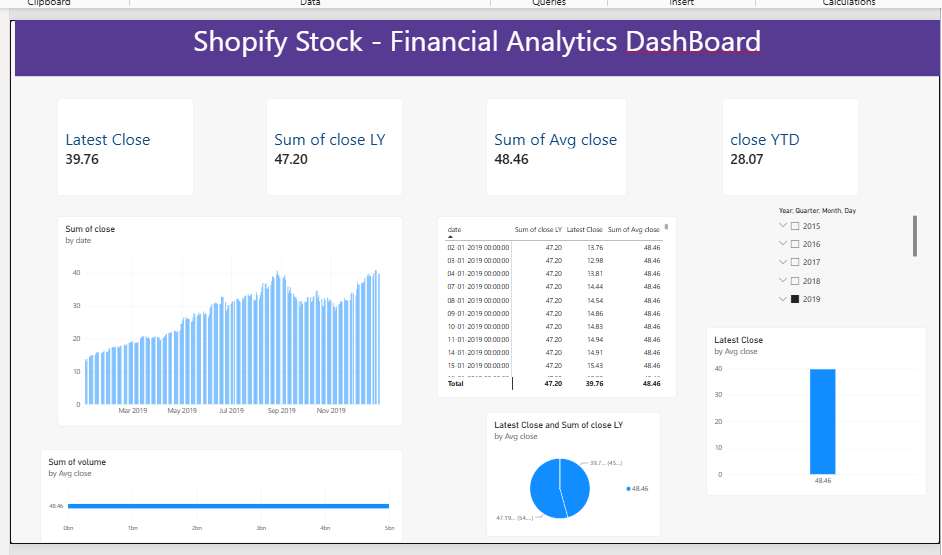

The page's visual inventory and layout, read from the dashboard file:
{"tool":"powerbi","page":{"name":"Page 1","canvas":[1920,1080],"ordinal":0},"visuals":[{"type":"textbox","box":[10.1,0,1909.9,115.9],"z":0},{"type":"cardVisual","fields":{"Data":["Measure.Latest Close"]},"box":[97,161,282.8,202.3],"z":1},{"type":"cardVisual","fields":{"Data":["Sum(Measure.close LY)"]},"box":[528.5,161,283,202],"z":2},{"type":"cardVisual","fields":{"Data":["Sum(Measure.Avg close)"]},"box":[982.7,161,291.1,202.3],"z":3},{"type":"cardVisual","fields":{"Data":["Measure.close YTD"]},"box":[1469.9,161,283,202],"z":4},{"type":"slicer","fields":{"Values":["Date.Date.Variation.Date Hierarchy.Year","Date.Date.Variation.Date Hierarchy.Quarter","Date.Date.Variation.Date Hierarchy.Month","Date.Date.Variation.Date Hierarchy.Day"]},"box":[1579.4,386.1,293.2,206.5],"z":7},{"type":"pivotTable","fields":{"Rows":["shopify_stock.date"],"Values":["Sum(Measure.close LY)","Measure.Latest Close","Sum(Measure.Avg close)"]},"box":[881.5,404.6,495.5,375.7],"z":8},{"type":"pieChart","fields":{"Category":["Measure.Avg close"],"Y":["Measure.Latest Close","Sum(Measure.close LY)"]},"box":[982.7,809.3,361.3,258.1],"z":9},{"type":"columnChart","fields":{"Category":["Measure.Avg close"],"Y":["Measure.Latest Close"]},"box":[1436.9,633.8,456.3,348.9],"z":10},{"type":"clusteredBarChart","fields":{"Category":["Measure.Avg close"],"Y":["Sum(shopify_stock.volume)"]},"box":[61.9,885.7,749.4,194.1],"z":11},{"type":"lineStackedColumnComboChart","fields":{"Category":["shopify_stock.date"],"Y":["Sum(shopify_stock.close)"]},"box":[97,404.6,714.3,433.5],"z":12}]}

Visuals, with their boxes in screenshot pixels (x1, y1, x2, y2):
textbox: rect(0, 17, 892, 73)
cardVisual - Measure.Latest Close: rect(10, 95, 147, 193)
cardVisual - Sum(Measure.close LY): rect(219, 95, 356, 193)
cardVisual - Sum(Measure.Avg close): rect(439, 95, 580, 193)
cardVisual - Measure.close YTD: rect(674, 95, 811, 193)
slicer - Date.Date.Variation.Date Hierarchy.Year x Date.Date.Variation.Date Hierarchy.Quarter: rect(727, 204, 869, 304)
pivotTable - shopify_stock.date x Sum(Measure.close LY): rect(390, 213, 629, 395)
pieChart - Measure.Avg close x Measure.Latest Close: rect(439, 409, 613, 534)
columnChart - Measure.Avg close x Measure.Latest Close: rect(658, 324, 879, 493)
clusteredBarChart - Measure.Avg close x Sum(shopify_stock.volume): rect(0, 446, 356, 540)
lineStackedColumnComboChart - shopify_stock.date x Sum(shopify_stock.close): rect(10, 213, 356, 423)
